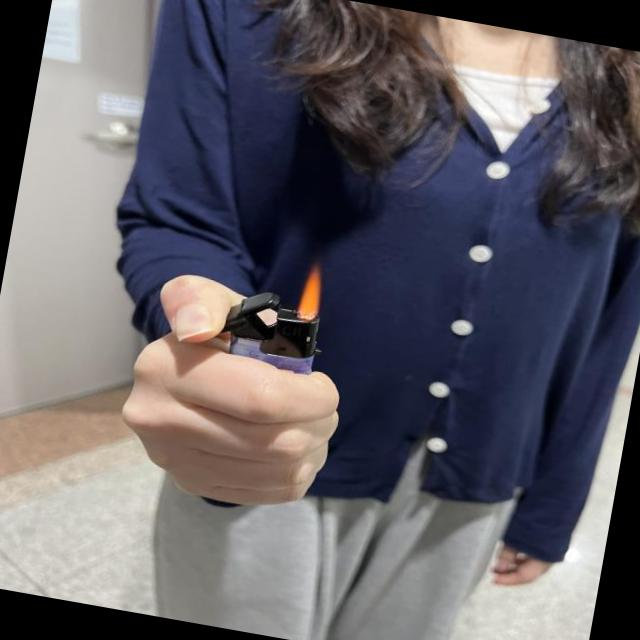Fire: (295, 264, 325, 320)
